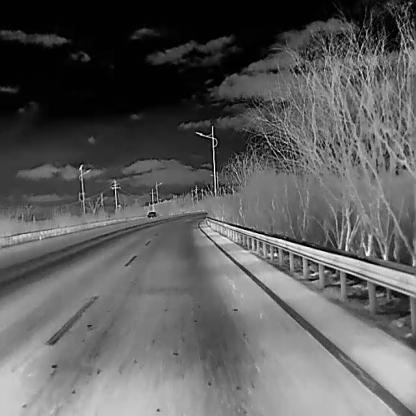car: (146, 210, 158, 218)
